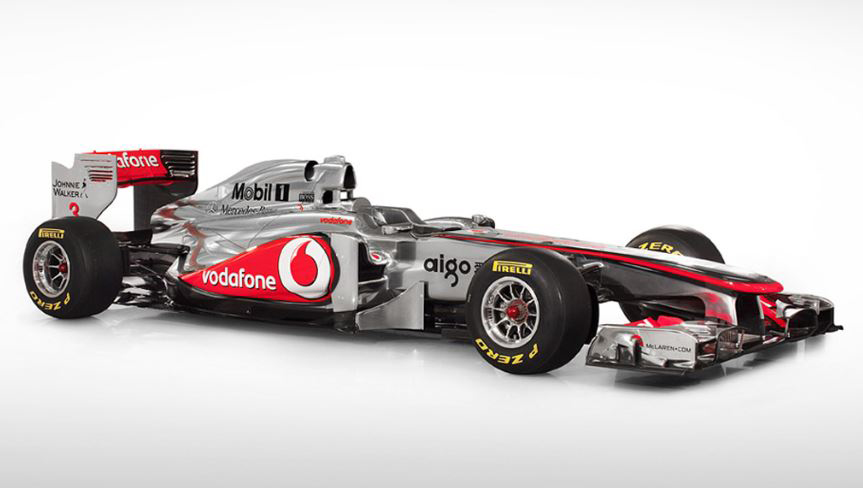F1 Car: (16, 135, 849, 386)
